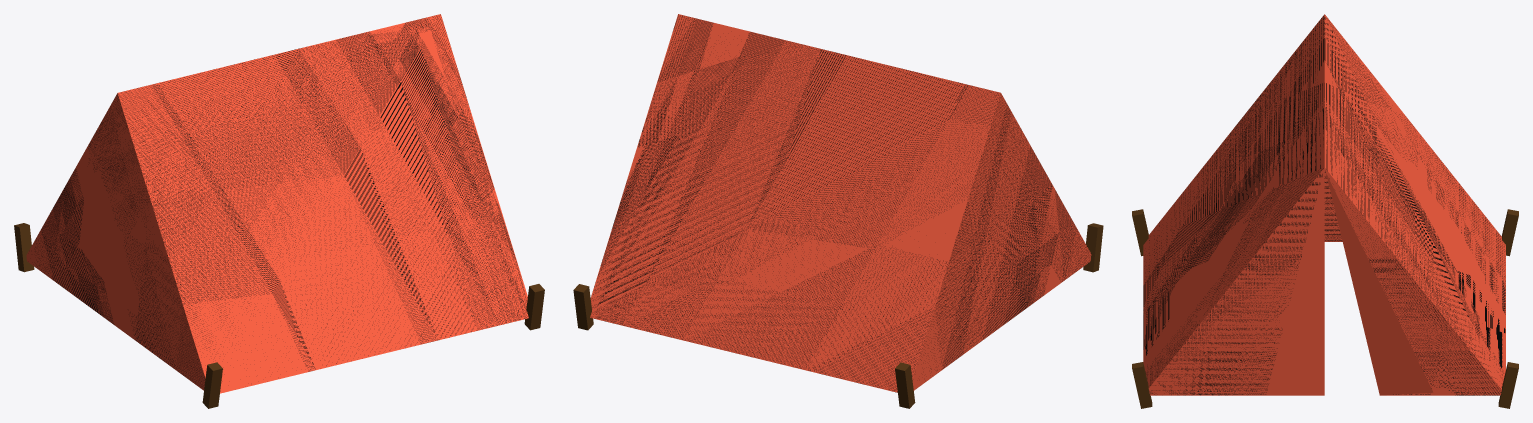
The model's file is ForestTent_01.fbx.
The picture shows the model from 3 angles, left to right: view 1: azimuth 30°, elevation 25°; view 2: azimuth 150°, elevation 25°; view 3: azimuth 270°, elevation 25°; orthographic projection. The views are drawn at different scales.
Parts seen in each view (by area): view 1: ForestTent_01; view 2: ForestTent_01; view 3: ForestTent_01.
Part boxes in pixels (left/top/right/bottom): ForestTent_01: left=14, top=14, right=544, bottom=408; ForestTent_01: left=573, top=14, right=1103, bottom=408; ForestTent_01: left=1132, top=14, right=1518, bottom=408.
Size of the model in its own units: 35.43 by 24.25 by 35.53.
